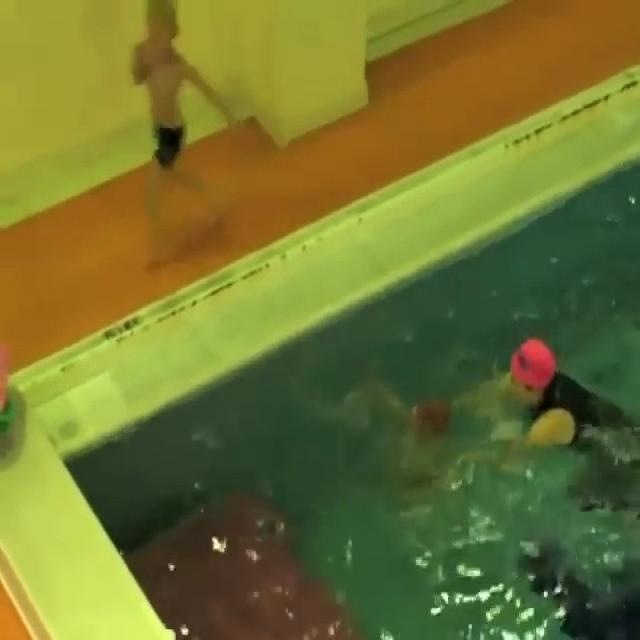drowning: (368, 369, 457, 501)
swimming: (458, 335, 638, 465)
